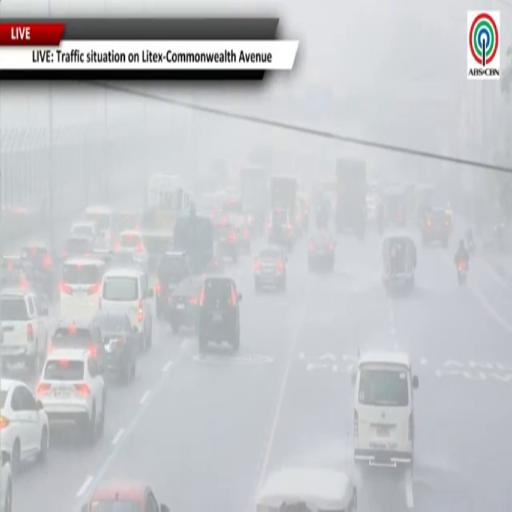car: (352, 351, 418, 468), (36, 349, 106, 442), (0, 379, 49, 472), (256, 467, 357, 511), (100, 268, 154, 349), (0, 288, 48, 373), (198, 276, 242, 353), (94, 311, 137, 385), (50, 317, 106, 373), (60, 258, 105, 321), (81, 483, 169, 511), (155, 251, 191, 318), (21, 244, 57, 299), (168, 277, 202, 332), (254, 248, 287, 292), (115, 231, 149, 271), (85, 205, 113, 247), (422, 208, 451, 247), (216, 215, 239, 263), (268, 207, 294, 249), (308, 234, 335, 271), (113, 210, 141, 243), (2, 255, 29, 289), (228, 214, 251, 252), (62, 235, 95, 261), (71, 220, 102, 244), (0, 451, 12, 511)
motorcycle: (457, 261, 467, 285), (466, 231, 475, 255), (467, 239, 475, 255)
truck: (173, 208, 214, 275), (335, 157, 367, 237), (268, 176, 299, 249), (240, 165, 268, 234), (270, 176, 298, 221)
